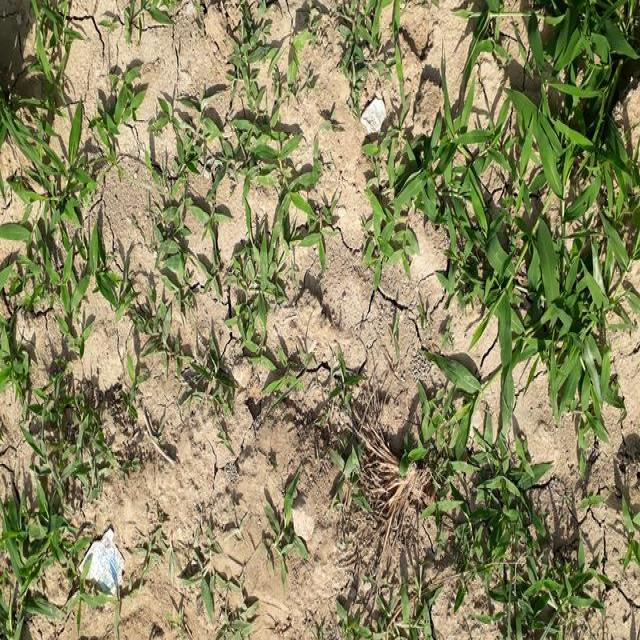weed: (450, 10, 640, 429), (4, 10, 144, 335), (464, 457, 601, 640), (134, 340, 322, 427), (147, 239, 324, 331), (160, 132, 319, 231), (0, 383, 56, 640), (342, 3, 410, 111), (363, 162, 422, 273), (252, 511, 310, 593), (230, 52, 282, 125), (345, 601, 441, 640)
